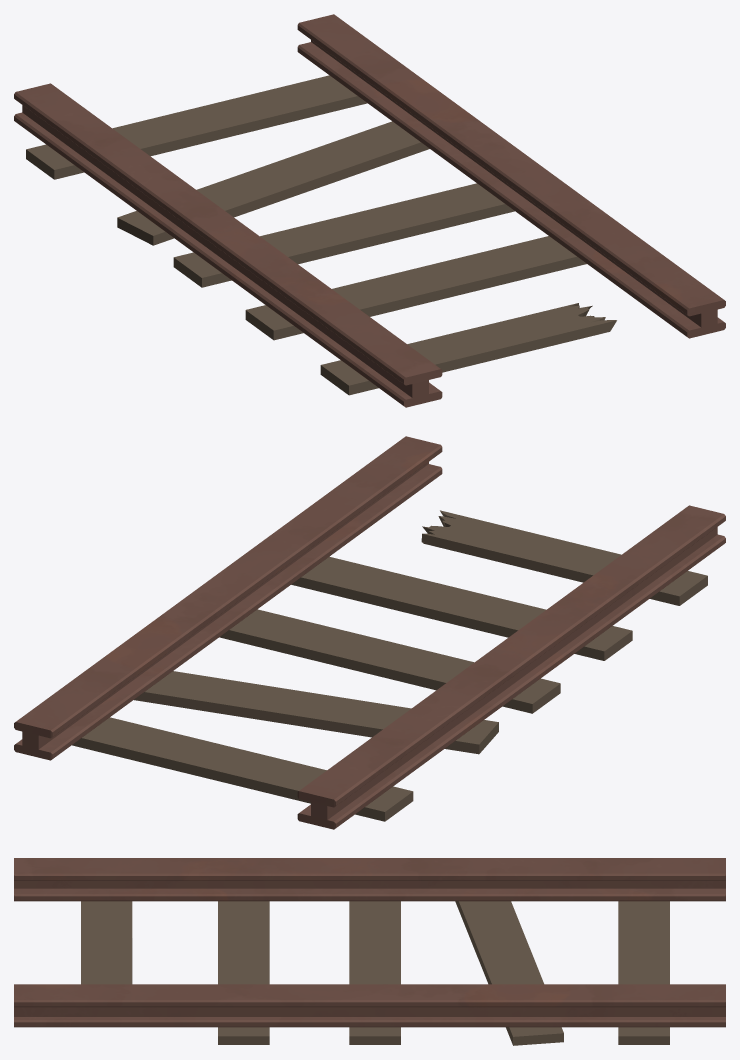
The model's file is train_tracks.fbx.
3 renders of one model, top to bottom at view 1: azimuth 30°, elevation 25°; view 2: azimuth 150°, elevation 25°; view 3: azimuth 270°, elevation 25°, orthographic. The views are drawn at different scales.
Visible parts, largest first — view 1: metal, planks; view 2: metal, planks; view 3: metal, planks.
Boxes of the visible parts, x1,y1,x2,y2 form: metal: [14, 14, 725, 407]; planks: [26, 75, 616, 395]; metal: [14, 436, 725, 829]; planks: [72, 510, 707, 821]; metal: [14, 858, 725, 1027]; planks: [81, 901, 669, 1045].
Size of the model in its own units: 598 by 62.71 by 1116.
Materials: 2 (2 with a texture image).
